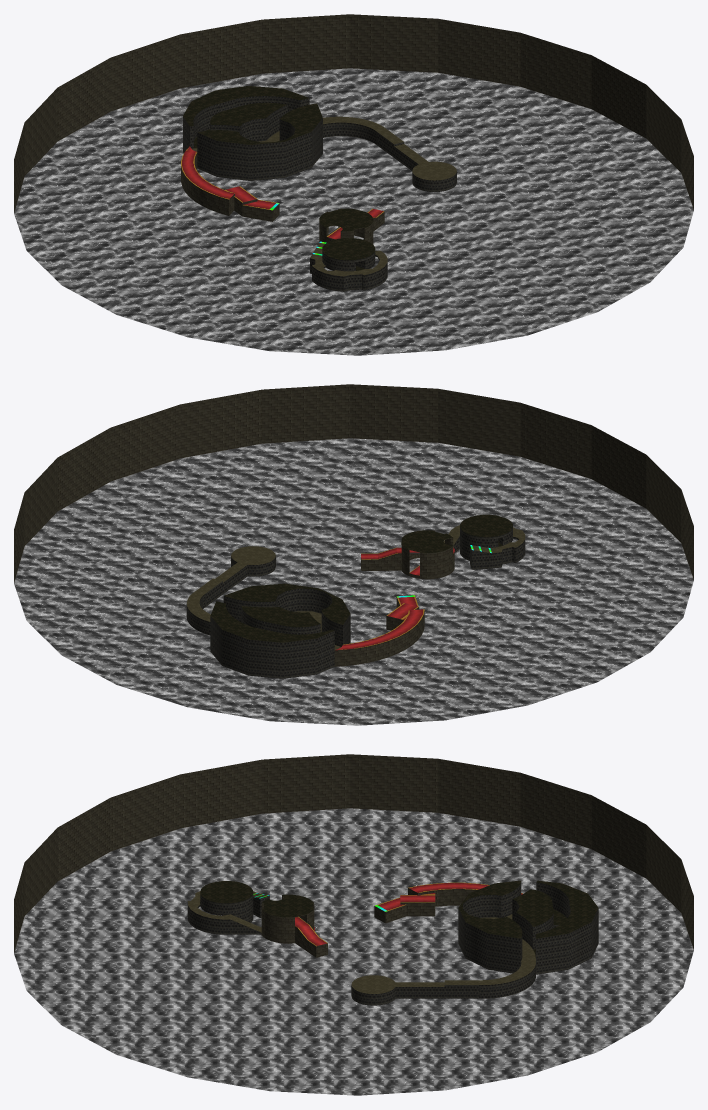
3 renders of one model, top to bottom at view 1: azimuth 30°, elevation 25°; view 2: azimuth 150°, elevation 25°; view 3: azimuth 270°, elevation 25°, orthographic.
Visible parts, largest first — view 1: Race-SKP--FallBoundary.001, Race-SKP--Material4.005, Race-SKP--Wall.004, Race-SKP--Material3.006, Race-SKP--Material2.006, Race-SKP--Material1.006; view 2: Race-SKP--FallBoundary.001, Race-SKP--Material4.005, Race-SKP--Wall.004, Race-SKP--Material3.006, Race-SKP--Material2.006, Race-SKP--Material1.006; view 3: Race-SKP--FallBoundary.001, Race-SKP--Material4.005, Race-SKP--Wall.004, Race-SKP--Material3.006, Race-SKP--Material2.006, Race-SKP--Material1.006.
Boxes of the visible parts, box(x1,y1,x2,y2) form: Race-SKP--FallBoundary.001: box(14, 68, 693, 355); Race-SKP--Material4.005: box(14, 14, 693, 244); Race-SKP--Wall.004: box(183, 96, 456, 291); Race-SKP--Material3.006: box(183, 86, 375, 270); Race-SKP--Material2.006: box(192, 116, 456, 276); Race-SKP--Material1.006: box(181, 146, 384, 239); Race-SKP--FallBoundary.001: box(14, 438, 693, 725); Race-SKP--Material4.005: box(14, 384, 693, 666); Race-SKP--Wall.004: box(186, 528, 525, 678); Race-SKP--Material3.006: box(210, 514, 512, 642); Race-SKP--Material2.006: box(186, 525, 525, 649); Race-SKP--Material1.006: box(335, 547, 454, 650); Race-SKP--FallBoundary.001: box(14, 808, 693, 1095); Race-SKP--Material4.005: box(14, 754, 693, 957); Race-SKP--Wall.004: box(187, 882, 598, 1005); Race-SKP--Material3.006: box(200, 880, 598, 955); Race-SKP--Material2.006: box(187, 891, 535, 993); Race-SKP--Material1.006: box(295, 882, 522, 946).
Bounding box in the file's own units: 183712 × 17485 × 183712.
Materials: 9 (9 with a texture image).
